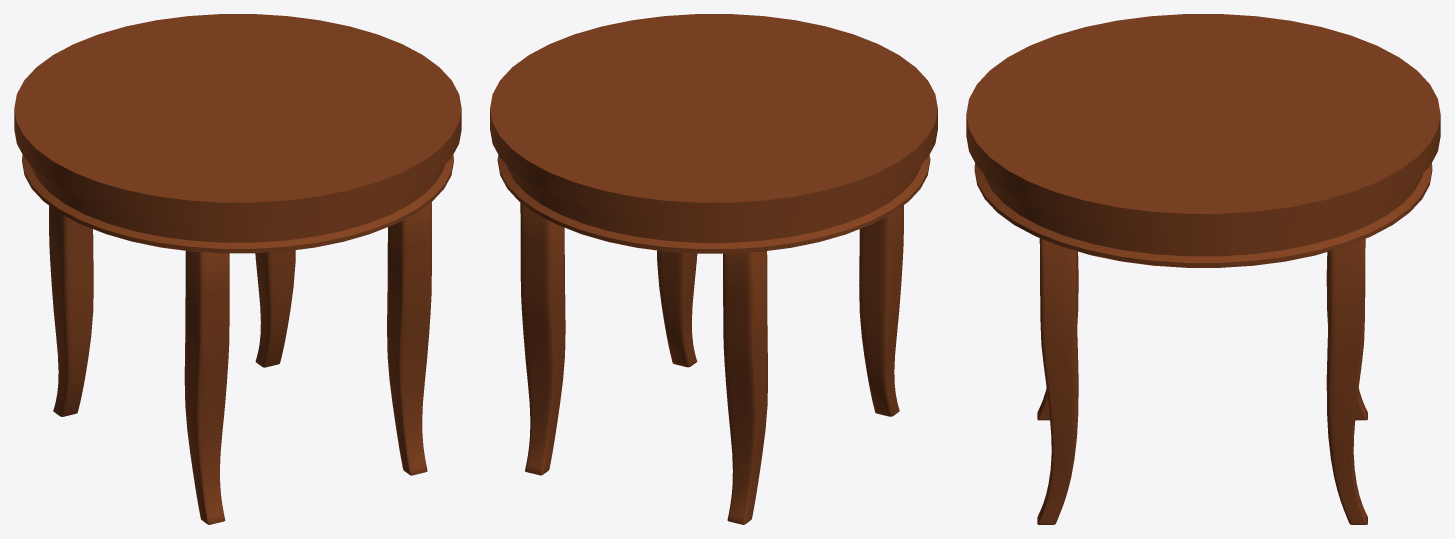
File: table2.fbx
The picture shows the model from 3 angles, left to right: view 1: azimuth 30°, elevation 25°; view 2: azimuth 150°, elevation 25°; view 3: azimuth 270°, elevation 25°; orthographic projection. The views are drawn at different scales.
Parts seen in each view (by area): view 1: table.v3, Cube.043, Cube.041, Cube.042, Cube.040; view 2: table.v3, Cube.042, Cube.040, Cube.043, Cube.041; view 3: table.v3, Cube.041, Cube.040.
Part boxes in pixels (bbox=[...]): table.v3: bbox=[14, 14, 461, 253]; Cube.043: bbox=[184, 251, 229, 524]; Cube.041: bbox=[387, 202, 431, 475]; Cube.042: bbox=[49, 205, 93, 416]; Cube.040: bbox=[255, 250, 295, 367]; table.v3: bbox=[490, 14, 937, 253]; Cube.042: bbox=[723, 251, 767, 524]; Cube.040: bbox=[520, 202, 565, 475]; Cube.043: bbox=[859, 205, 903, 416]; Cube.041: bbox=[657, 250, 697, 367]; table.v3: bbox=[966, 14, 1440, 267]; Cube.041: bbox=[1037, 238, 1078, 524]; Cube.040: bbox=[1326, 238, 1367, 524].
Size of the model in its own units: 308 by 254 by 309.
